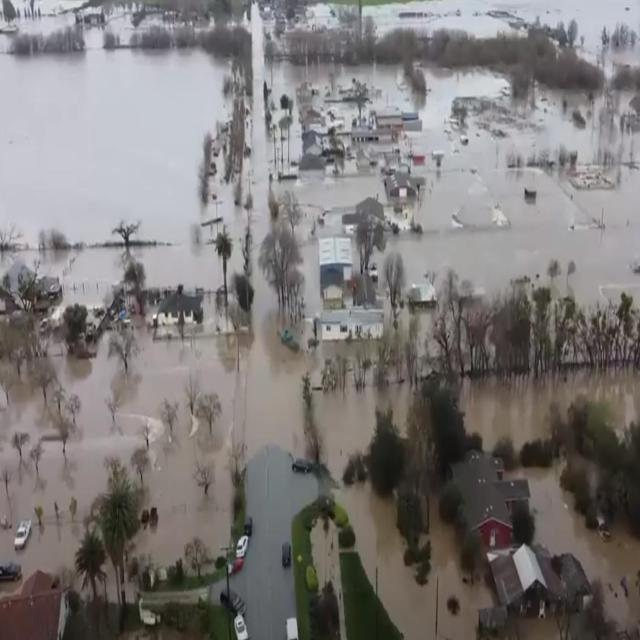flood: (0, 7, 322, 564), (0, 356, 130, 570), (335, 481, 495, 640), (527, 463, 640, 628), (363, 0, 640, 52), (460, 370, 640, 450), (314, 372, 412, 477), (0, 0, 83, 33), (306, 2, 340, 28)
house: (449, 444, 531, 564), (488, 536, 590, 621), (2, 565, 69, 640), (144, 286, 207, 337), (318, 234, 355, 302), (320, 307, 384, 345), (384, 171, 420, 203), (374, 105, 405, 135), (304, 130, 324, 157), (351, 126, 379, 144)
